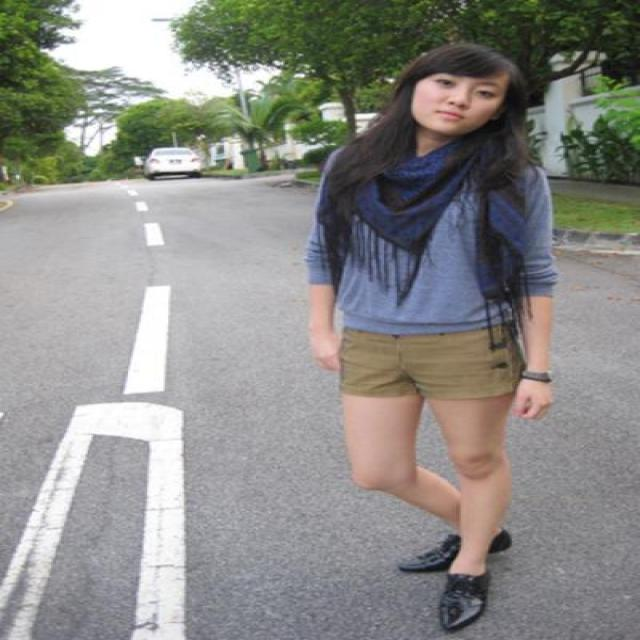shirt: (308, 168, 566, 342)
shoe: (404, 530, 511, 634)
shorts: (338, 322, 548, 401)
